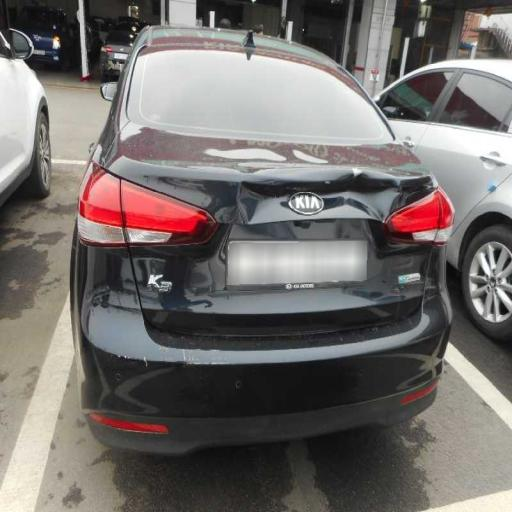dent: (164, 143, 422, 354)
scratch: (83, 309, 187, 438)
